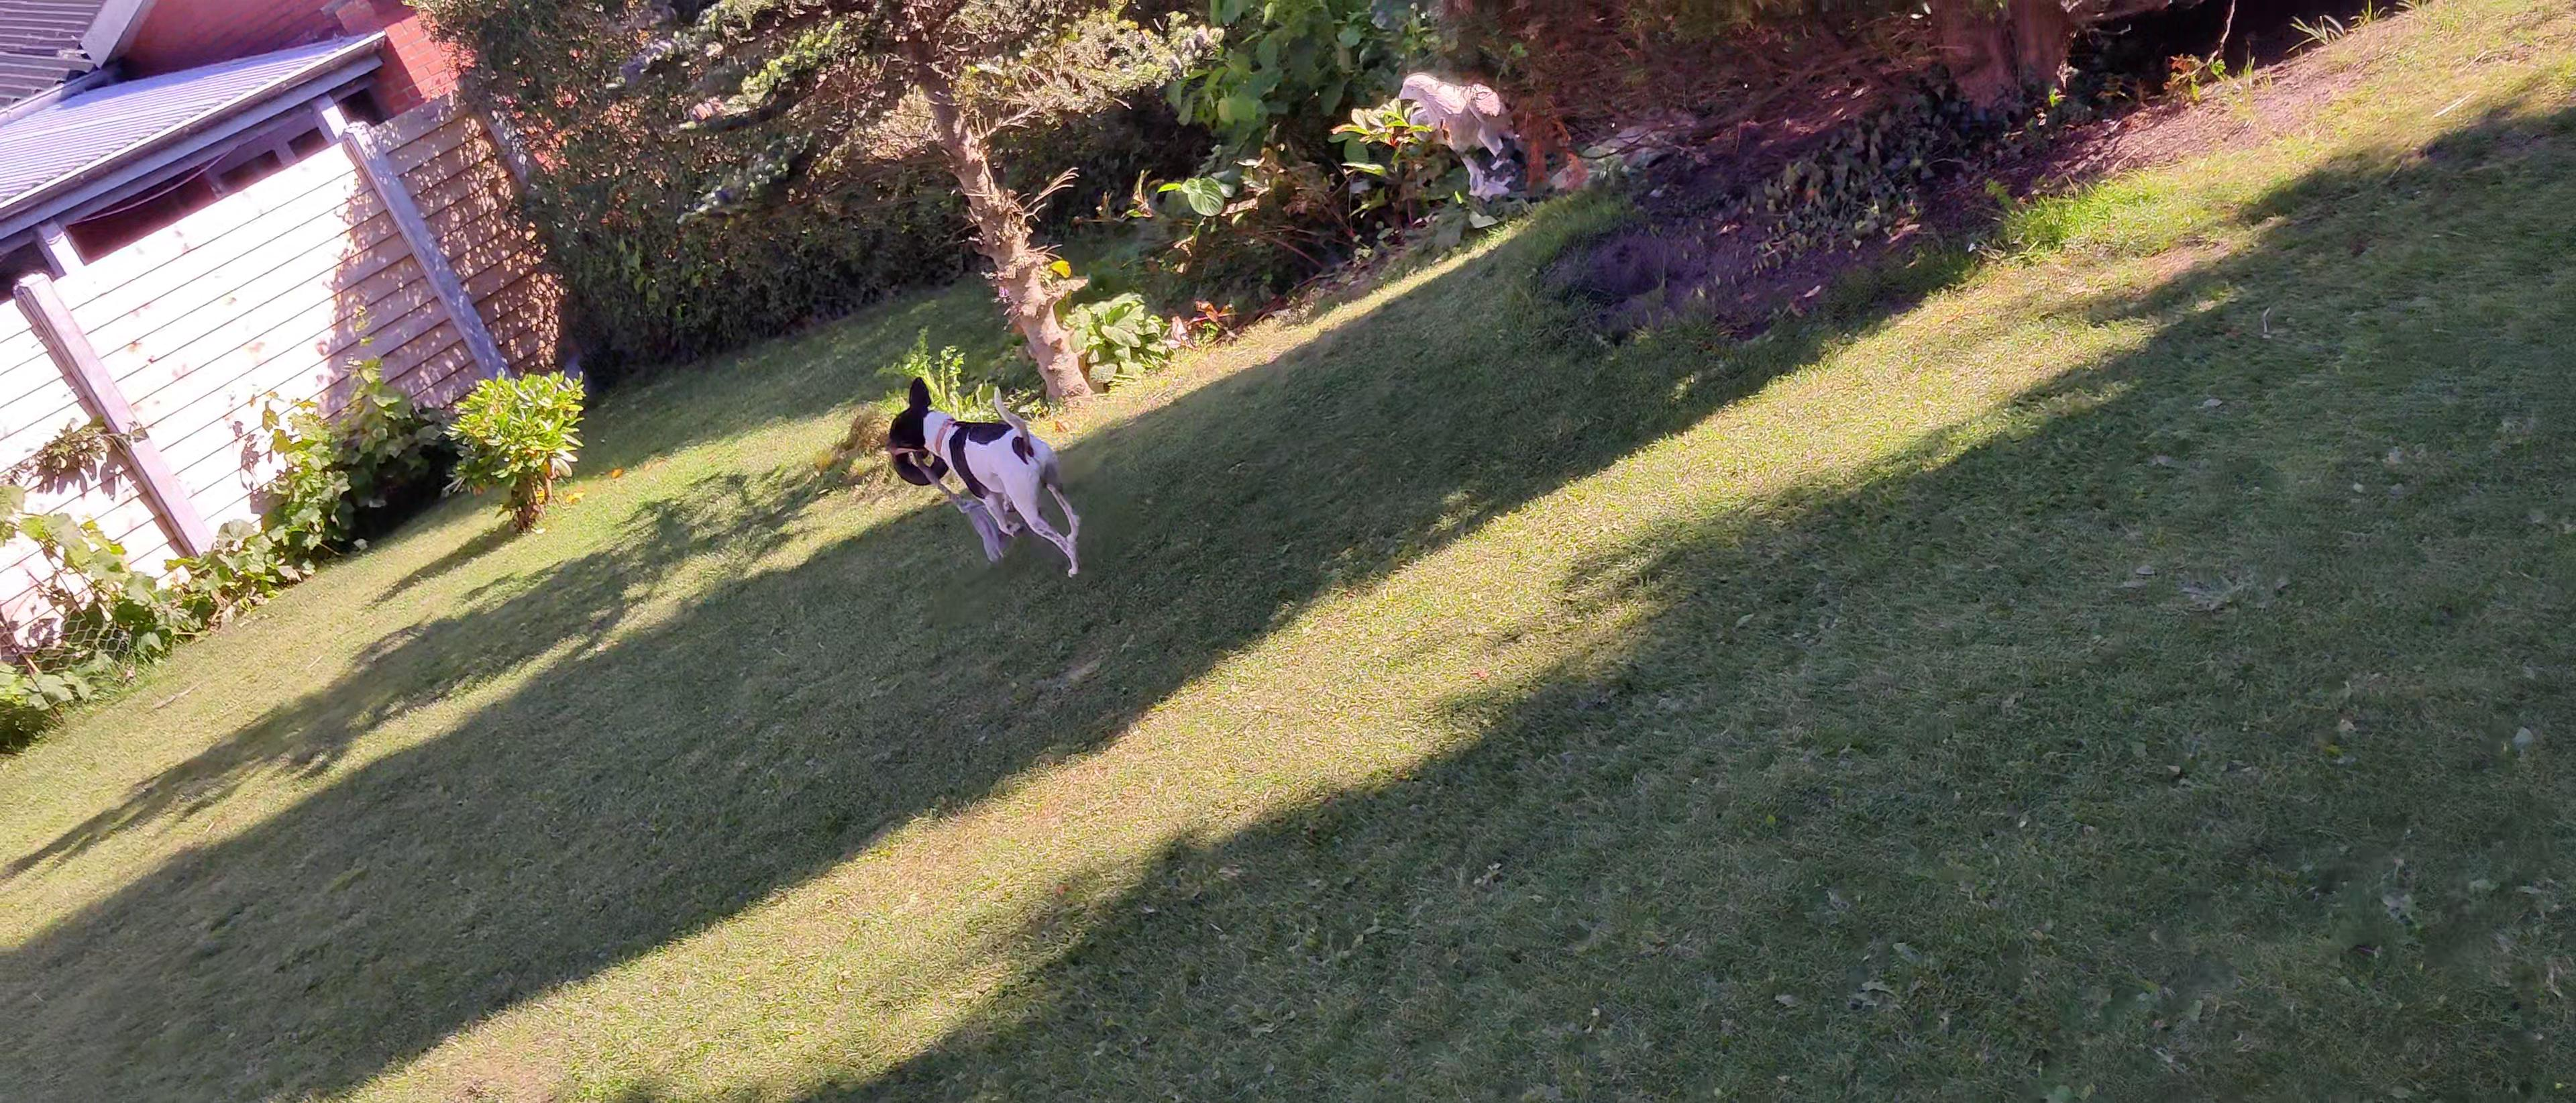Dog: (877, 373, 1086, 579)
